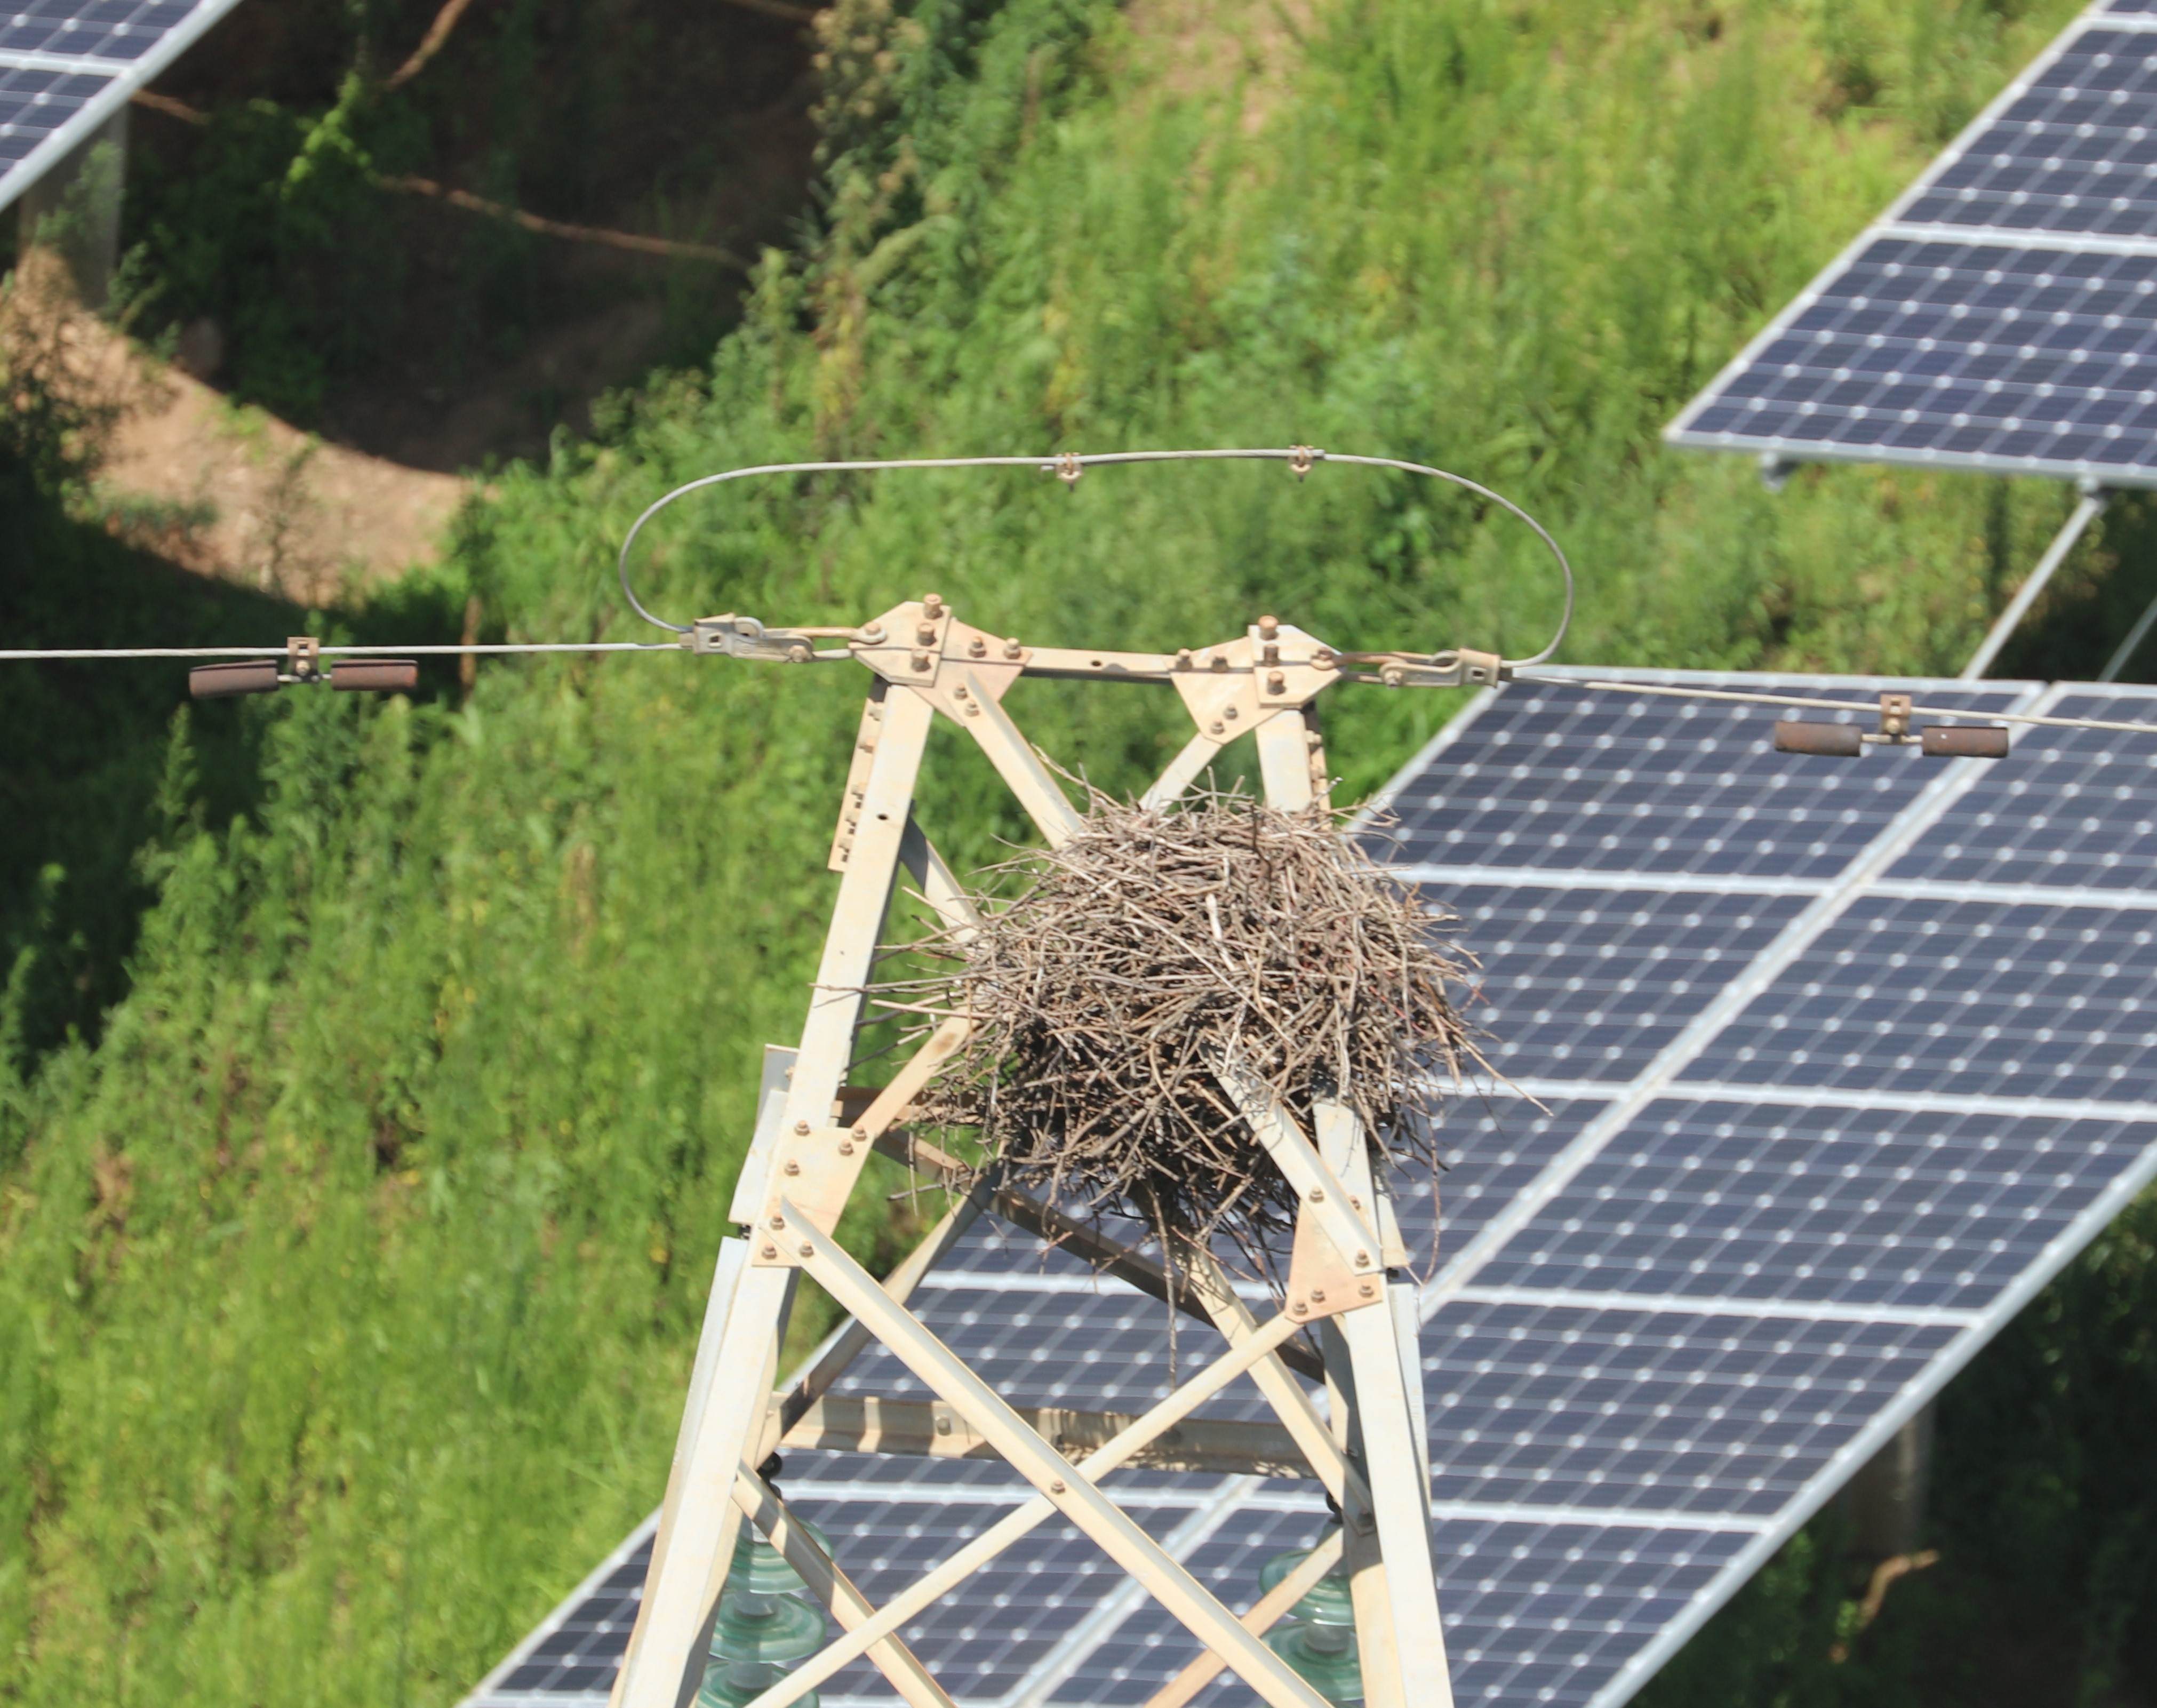niaowo: (909, 753, 1506, 1217)
